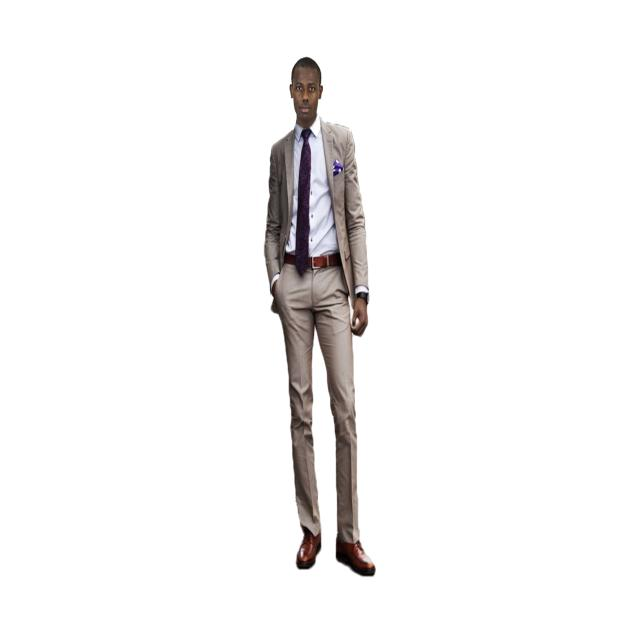jovem: (257, 48, 402, 596)
